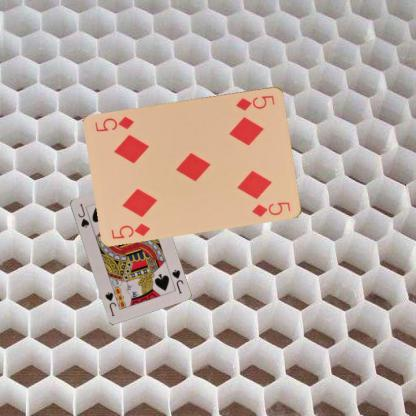5d: (108, 220, 152, 240), (234, 92, 276, 112)
Js: (75, 201, 90, 229), (170, 267, 184, 295)
